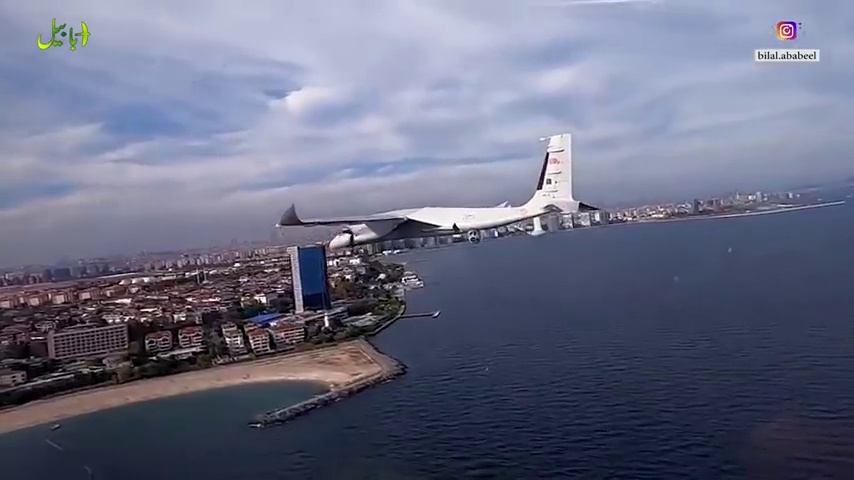military drone: (276, 132, 602, 251)
